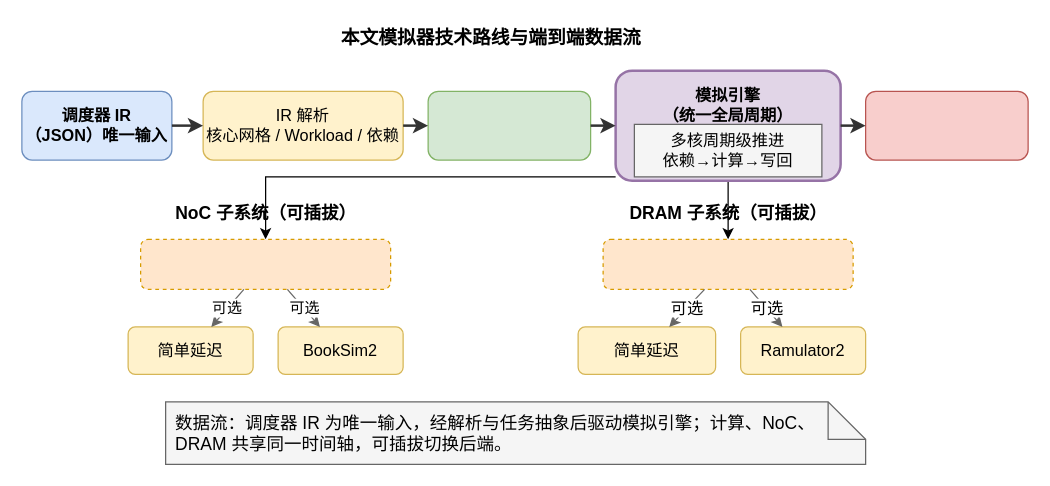
Image size: 1050x486. Some labels were removed from this diagram. The centre of each missing label's shape, as x and y in pixels:
MemoryInterface: the point at 727,263
NetworkInterface: the point at 265,263
统一任务抽象 IRData / Workload: the point at 509,125
统计与踪迹输出: the point at 946,125
